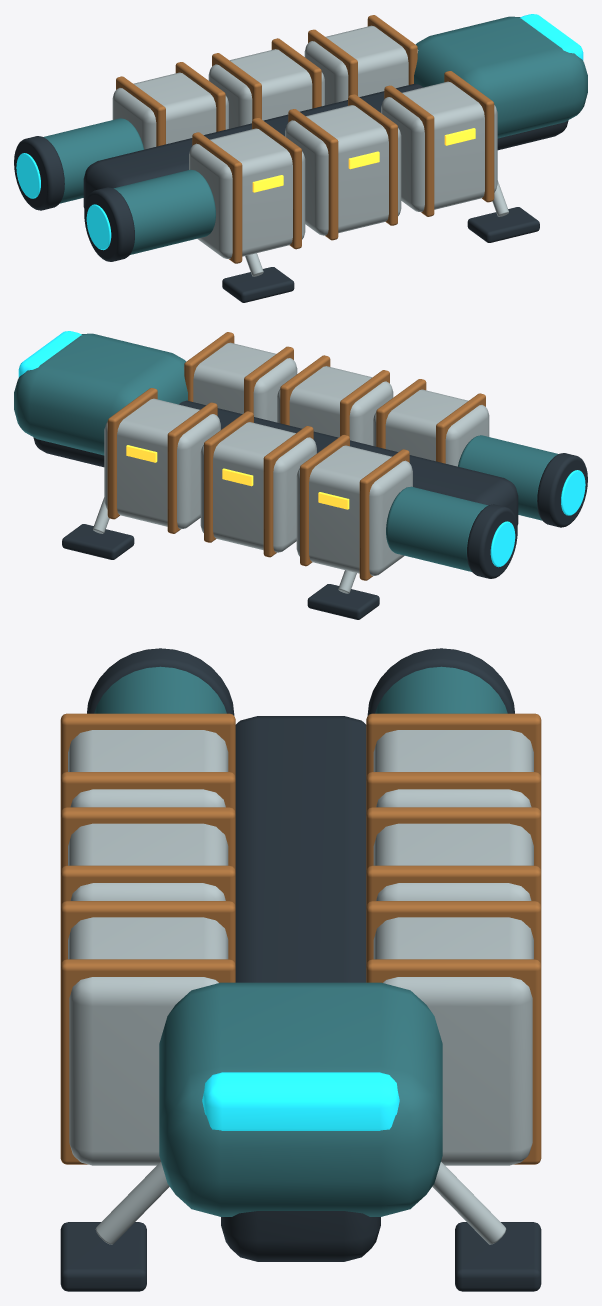
The model's file is transporter.glb.
The picture shows the model from 3 angles, top to bottom: view 1: azimuth 30°, elevation 25°; view 2: azimuth 150°, elevation 25°; view 3: azimuth 270°, elevation 25°; orthographic projection. The views are drawn at different scales.
Parts seen in each view (by area): view 1: Forward crew module, Independent cargo pod.002, Independent cargo pod.001, Independent cargo pod, Drive nacelle, Transport spine, Independent cargo pod.004, Independent cargo pod.003, Independent cargo pod.005, Drive nacelle.001, Drive nozzle.001, Drive nozzle (+17 smaller); view 2: Forward crew module, Independent cargo pod.005, Independent cargo pod.004, Independent cargo pod.003, Drive nacelle.001, Transport spine, Independent cargo pod.001, Independent cargo pod, Independent cargo pod.002, Drive nacelle, Drive nozzle, Drive nozzle.001 (+17 smaller); view 3: Forward crew module, Transport spine, Independent cargo pod.002, Independent cargo pod.005, Forward console glazing, Independent cargo pod, Independent cargo pod.003, Independent cargo pod.001, Independent cargo pod.004, Landing pad.001, Landing pad.003, Cargo restraint band.005 (+17 smaller).
Boxes of the visible parts, x1,y1,x2,y2 form: Forward crew module: (414, 16, 587, 138); Independent cargo pod.002: (381, 81, 497, 212); Independent cargo pod.001: (285, 105, 401, 235); Independent cargo pod: (189, 128, 305, 258); Drive nacelle: (113, 169, 215, 254); Transport spine: (83, 83, 568, 208); Independent cargo pod.004: (208, 49, 324, 128); Independent cargo pod.003: (112, 72, 228, 149); Independent cargo pod.005: (304, 25, 418, 105); Drive nacelle.001: (43, 118, 143, 203); Drive nozzle.001: (14, 136, 64, 210); Drive nozzle: (84, 187, 134, 261); Forward crew module: (14, 333, 187, 455); Independent cargo pod.005: (104, 398, 220, 529); Independent cargo pod.004: (200, 422, 316, 552); Independent cargo pod.003: (296, 445, 412, 575); Drive nacelle.001: (386, 486, 488, 571); Transport spine: (33, 400, 518, 525); Independent cargo pod.001: (277, 366, 393, 445); Independent cargo pod: (373, 389, 489, 466); Independent cargo pod.002: (183, 342, 297, 422); Drive nacelle: (458, 435, 558, 520); Drive nozzle: (537, 453, 587, 527); Drive nozzle.001: (467, 504, 517, 578); Forward crew module: (159, 982, 442, 1216); Transport spine: (221, 716, 380, 1261); Independent cargo pod.002: (68, 917, 228, 1165); Independent cargo pod.005: (373, 917, 533, 1165); Forward console glazing: (202, 1072, 399, 1130); Independent cargo pod: (68, 730, 228, 807); Independent cargo pod.003: (373, 730, 533, 807); Independent cargo pod.001: (68, 823, 228, 900); Independent cargo pod.004: (373, 823, 533, 900); Landing pad.001: (60, 1222, 146, 1291); Landing pad.003: (455, 1222, 541, 1291); Cargo restraint band.005: (60, 959, 235, 1164).
Size of the model in its own units: 4.7 by 1.27 by 1.95.
